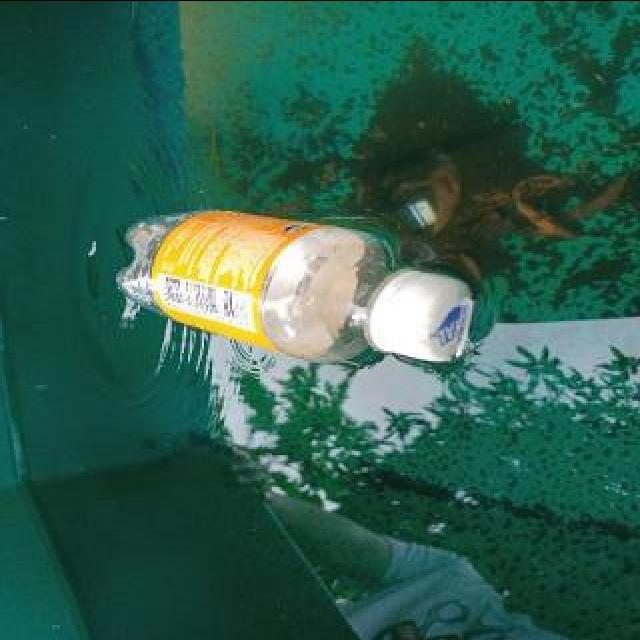Bottle: (110, 204, 478, 372)
